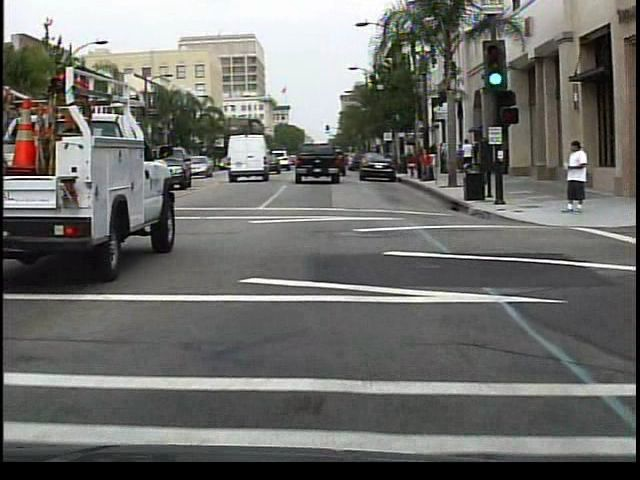person: (559, 139, 594, 216), (414, 144, 435, 183)
